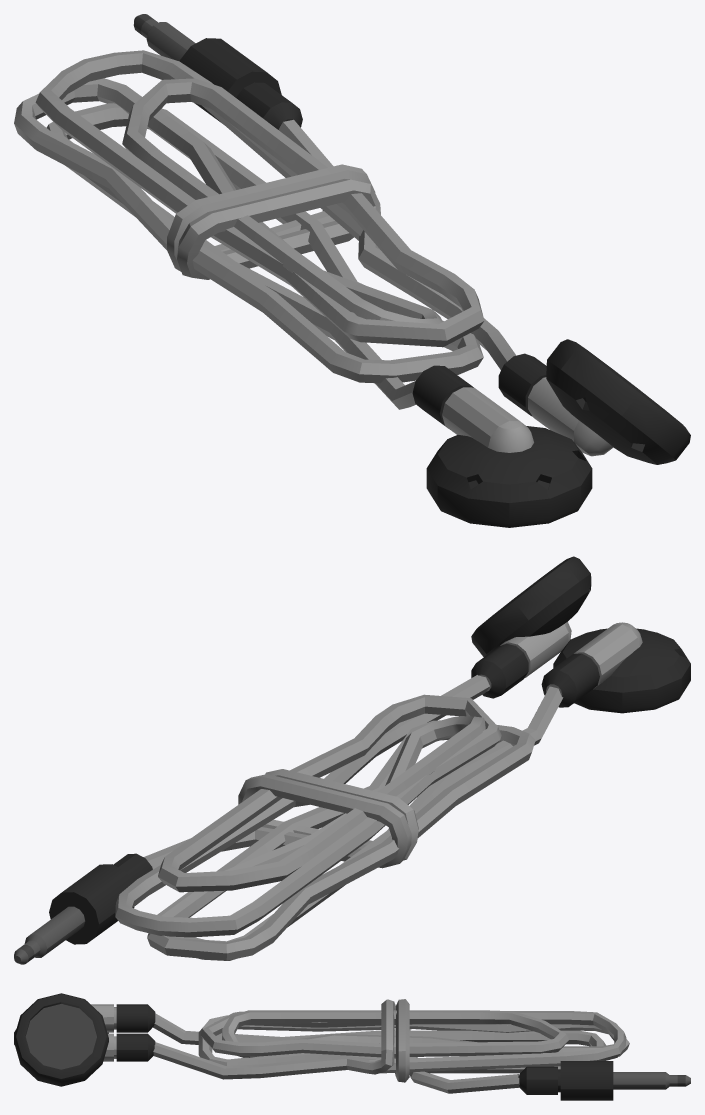
Rendered from Headphones_01.glb.
3 views of the same model, one above another, from view 1: azimuth 30°, elevation 25°; view 2: azimuth 150°, elevation 25°; view 3: azimuth 270°, elevation 25° (orthographic). The views are drawn at different scales.
Parts seen in each view (by area): view 1: Mesh_Headphones_01; view 2: Mesh_Headphones_01; view 3: Mesh_Headphones_01.
Boxes of the visible parts, x1,y1,x2,y2 form: Mesh_Headphones_01: [14, 14, 690, 527]; Mesh_Headphones_01: [14, 556, 690, 964]; Mesh_Headphones_01: [14, 993, 690, 1100].
Bounding box in the file's own units: 0.0309 × 0.0139 × 0.113.
Materials: 1 (1 with a texture image).
